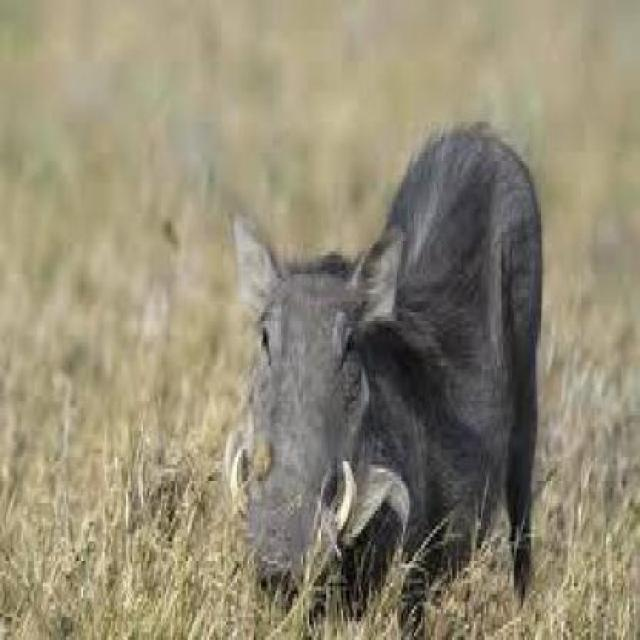wildboar: (216, 115, 550, 640)
